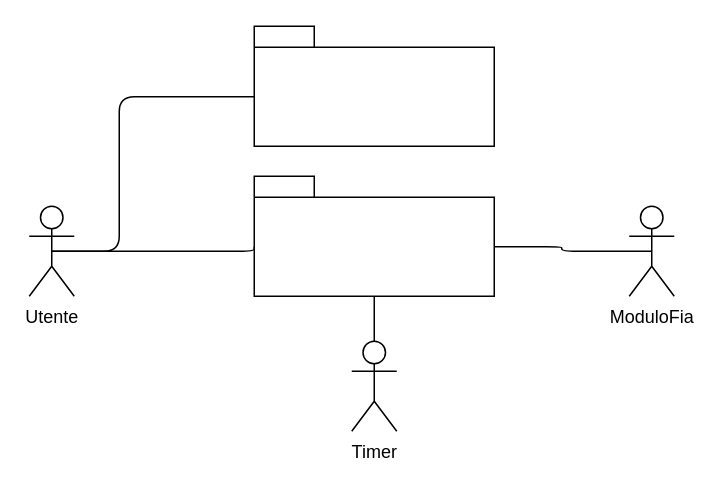
Some shapes in this 720 by 489 pixel diagram are drawn without their labels. Here are the shapes that lost their labels. From the top down, the centre of each, then its label:
At point 373,85: "Gestione Bacheca".
At point 373,235: "Gestione Account".
